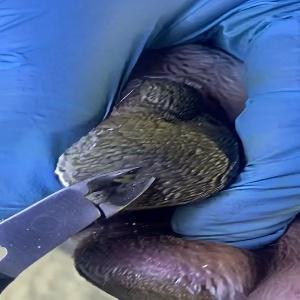keratosis: (52, 83, 240, 209)
